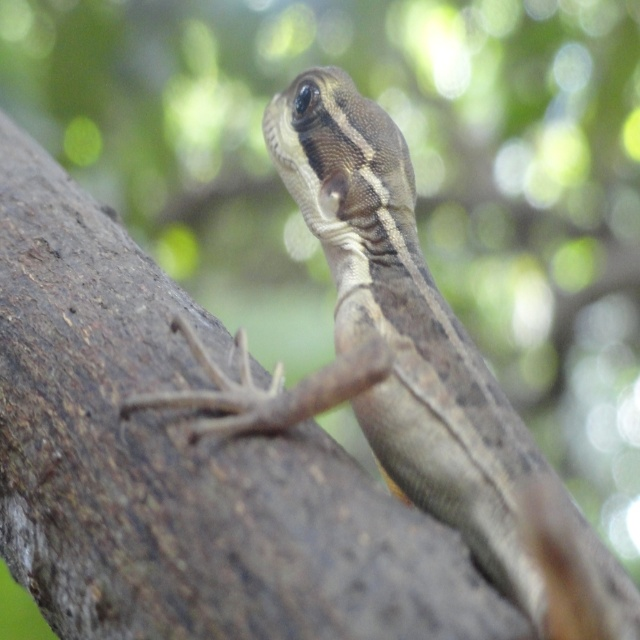Lizard: (153, 98, 613, 615)
